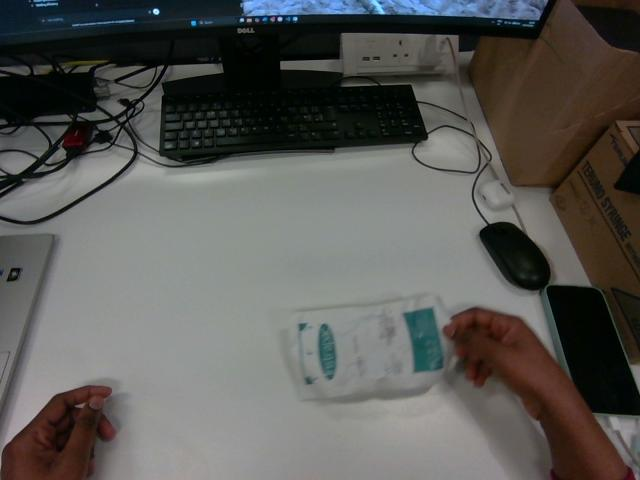gallipot: (283, 294, 451, 398)
